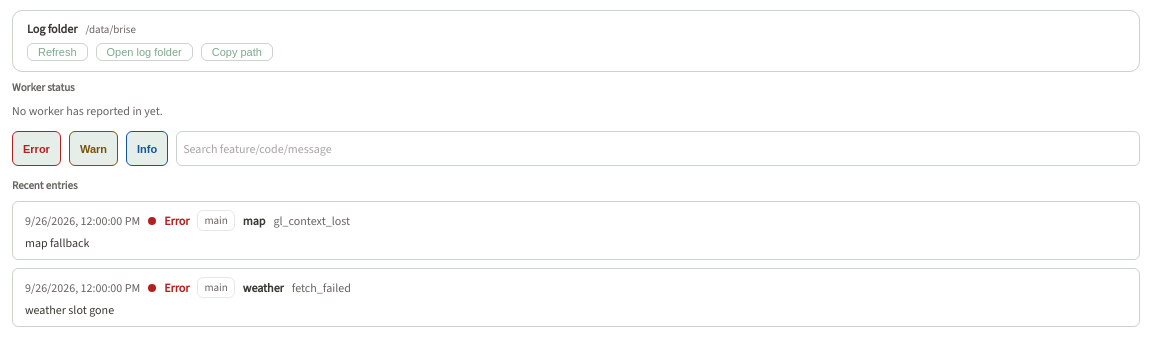
Scenario: DiagnosticsTab › filters entries by the text filter over feature/code/message
Check: the text "map fallback" is shown, box [25,235,89,251]
Check: the text "weather slot gone" is shown, box [25,302,114,318]
Type "weather" into the field with test id "ai-diag-filter-text" at [658, 148], box [176,131,1140,166]
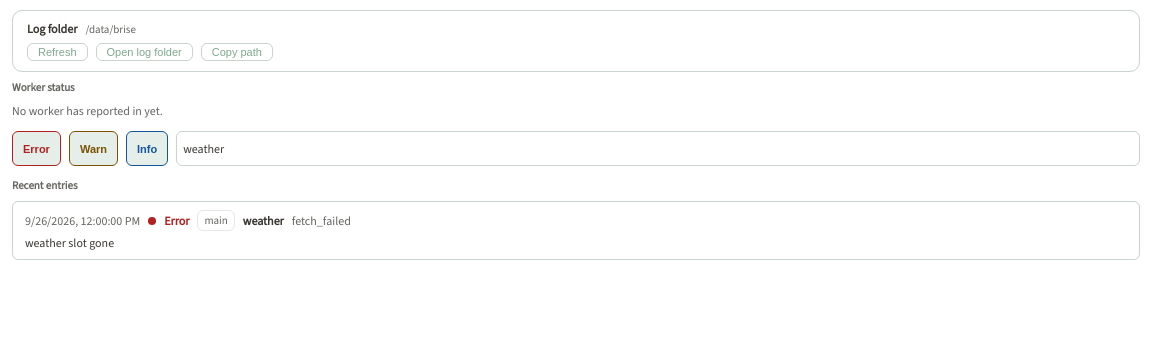
Check: the text "weather slot gone" is shown, box [25,235,114,251]
Check: the text "map fallback" is gone
